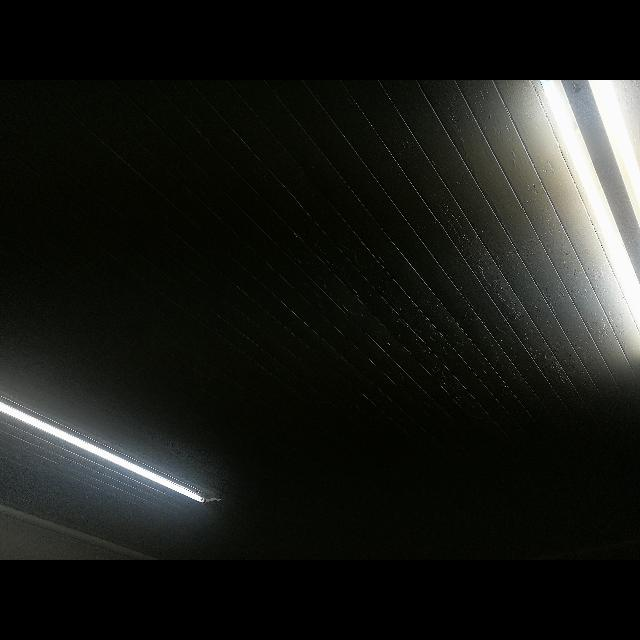Straight-Tube-Fluorescent-Lamp: (0, 383, 222, 522)
